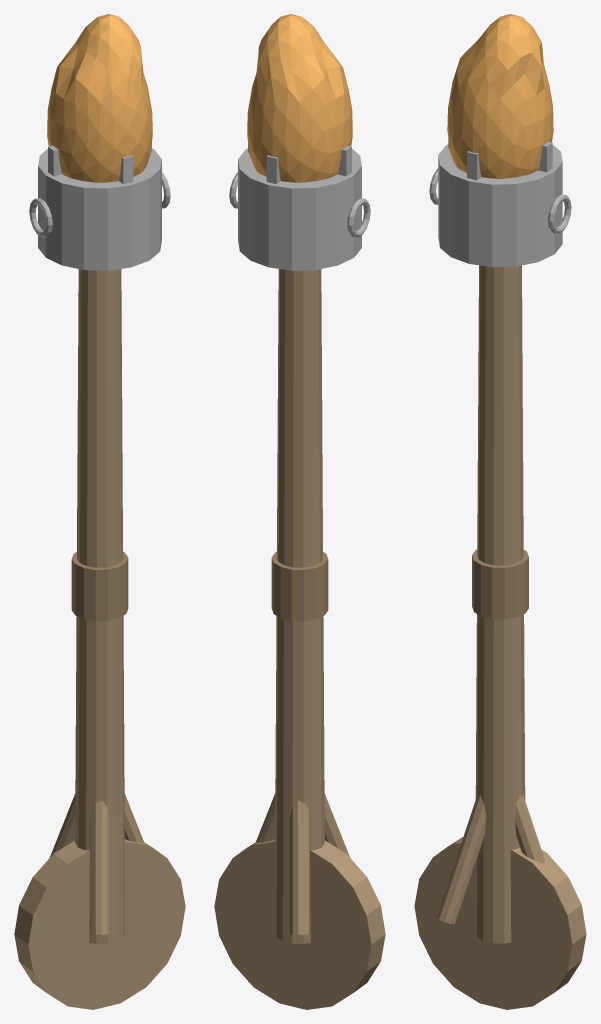
Rendered from temp_standing_torch.glb.
The picture shows the model from 3 angles, left to right: view 1: azimuth 30°, elevation 25°; view 2: azimuth 150°, elevation 25°; view 3: azimuth 330°, elevation 25°; orthographic projection.
Parts seen in each view (by area): view 1: Pole, Base, OuterFlame, Cup, Wrap, Brace2, Brace3, HandleL, Brace1; view 2: Pole, Base, OuterFlame, Cup, Wrap, Brace3, Brace2, HandleL, Brace1; view 3: Pole, Base, OuterFlame, Cup, Wrap, Brace2, Brace1, HandleR.
Part boxes in pixels (bbox=[...]): Pole: bbox=[75, 269, 124, 943]; Base: bbox=[14, 839, 185, 1009]; OuterFlame: bbox=[47, 14, 152, 182]; Cup: bbox=[38, 148, 161, 270]; Wrap: bbox=[71, 551, 128, 621]; Brace2: bbox=[89, 800, 109, 934]; Brace3: bbox=[49, 794, 75, 857]; HandleL: bbox=[29, 198, 52, 237]; Brace1: bbox=[124, 793, 144, 842]; Pole: bbox=[275, 269, 324, 943]; Base: bbox=[214, 839, 385, 1009]; OuterFlame: bbox=[247, 14, 352, 182]; Cup: bbox=[238, 148, 361, 270]; Wrap: bbox=[271, 551, 328, 621]; Brace3: bbox=[290, 800, 310, 934]; Brace2: bbox=[324, 794, 350, 857]; HandleL: bbox=[347, 198, 370, 237]; Brace1: bbox=[255, 793, 275, 842]; Pole: bbox=[475, 265, 525, 943]; Base: bbox=[414, 837, 586, 1009]; OuterFlame: bbox=[447, 14, 553, 178]; Cup: bbox=[438, 144, 562, 267]; Wrap: bbox=[472, 549, 528, 619]; Brace2: bbox=[436, 795, 486, 924]; Brace1: bbox=[515, 794, 544, 863]; HandleR: bbox=[548, 194, 571, 233].
Size of the model in its own units: 0.32 by 1.91 by 0.2231.
